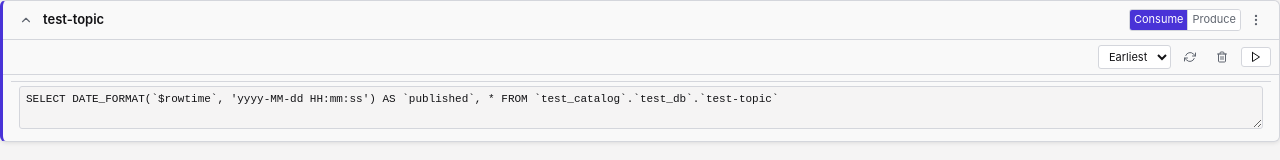
Test: [@stream-card-layout] StreamCard Layout › Kebab menu › clicking kebab opens dropdown with Duplicate, View Topic, View Schema, Remove Card
The width and height of the screenshot is (1280, 160).
Click the button named "Card actions". click: point(1256, 20)
box: [1243,7,1269,33]
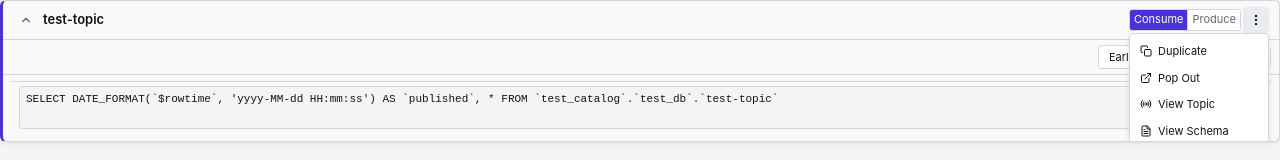
Check: the button "Duplicate" is shown, box [1130,38,1268,64]
Check: the button "View Topic" is shown, box [1130,91,1268,118]
Check: the button "View Schema" is shown, box [1130,118,1268,142]
